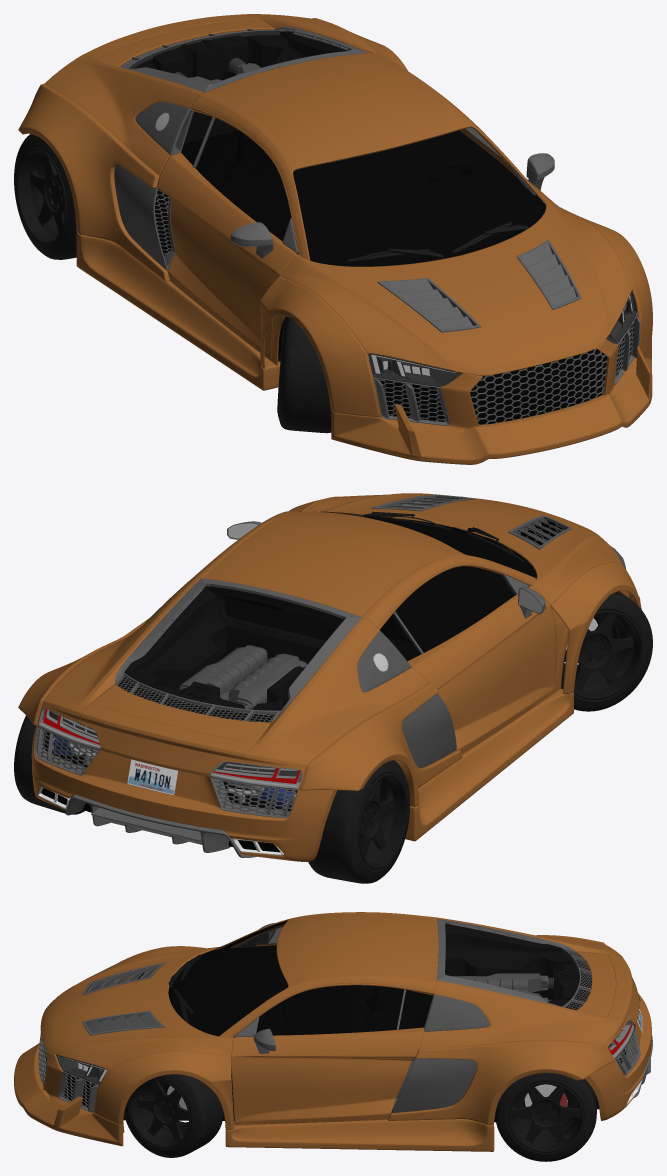
File: audi_r8.gltf
3 renders of one model, top to bottom at view 1: azimuth 30°, elevation 25°; view 2: azimuth 150°, elevation 25°; view 3: azimuth 270°, elevation 25°, orthographic. The views are drawn at different scales.
Parts seen in each view (by area): view 1: custom hood, Plane.010, Doors.014, Doors.009, Doors, Front Bumper.005, Doors.016, Hood.003, Doors.018, Doors.001, Plane.007, Plane (+25 smaller); view 2: Doors.009, Plane, Doors.001, Doors, Doors.011, Plane.010, Doors.015, custom hood, Doors.016, Doors.018, Plane.007, Doors.005 (+31 smaller); view 3: Doors, Plane.010, Doors.009, custom hood, Doors.016, Doors.001, Doors.014, Doors.018, Plane.007, Plane, Hood.003, Doors.015 (+25 smaller).
Boxes of the visible parts, box(x1,y1,x2,y2) form: custom hood: box(280, 195, 635, 375); Plane.010: box(181, 130, 545, 266); Doors.014: box(293, 126, 545, 265); Doors.009: box(191, 52, 545, 260); Doors: box(157, 129, 552, 360); Front Bumper.005: box(331, 336, 652, 464); Doors.016: box(18, 18, 407, 281); Hood.003: box(260, 207, 652, 416); Doors.018: box(76, 232, 280, 390); Doors.001: box(44, 14, 372, 187); Plane.007: box(181, 111, 513, 241); Plane: box(129, 30, 346, 83); Doors.009: box(190, 511, 536, 627); Plane: box(124, 586, 343, 710); Doors.001: box(36, 577, 428, 789); Doors: box(407, 586, 556, 754); Doors.011: box(31, 726, 337, 861); Plane.010: box(224, 517, 536, 660); Doors.015: box(124, 586, 343, 710); custom hood: box(304, 493, 622, 626); Doors.016: box(18, 618, 462, 806); Doors.018: box(405, 688, 573, 841); Plane.007: box(380, 566, 515, 660); Doors.005: box(79, 703, 254, 776); Doors: box(231, 943, 424, 1124); Plane.010: box(168, 945, 432, 1037); Doors.009: box(218, 912, 438, 1037); custom hood: box(40, 946, 233, 1070); Doors.016: box(388, 935, 614, 1125); Doors.001: box(419, 917, 624, 1052); Doors.014: box(174, 920, 287, 1036); Doors.018: box(225, 1119, 494, 1151); Plane.007: box(256, 925, 432, 1035); Plane: box(445, 923, 579, 1006); Hood.003: box(93, 946, 234, 1130); Doors.015: box(445, 924, 573, 1006).
Bounding box in the file's own units: 32.61 × 17.5 × 62.56.
Materials: 15 (5 with a texture image).
